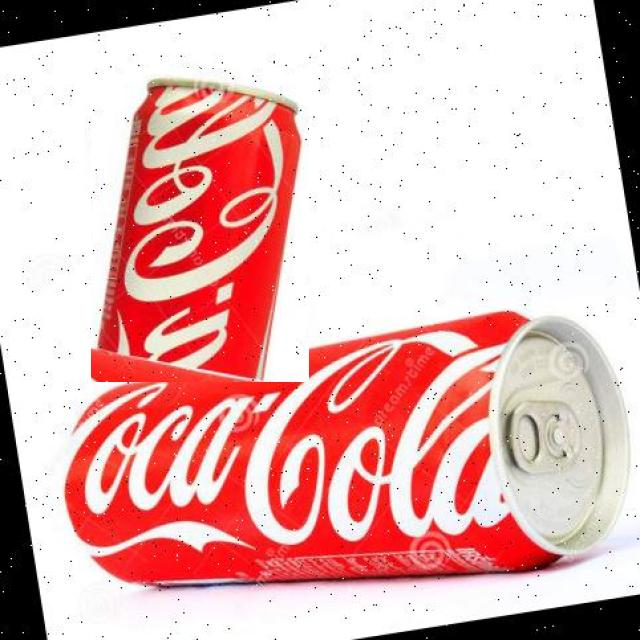coca-cola: (41, 291, 640, 640), (92, 68, 310, 382)
